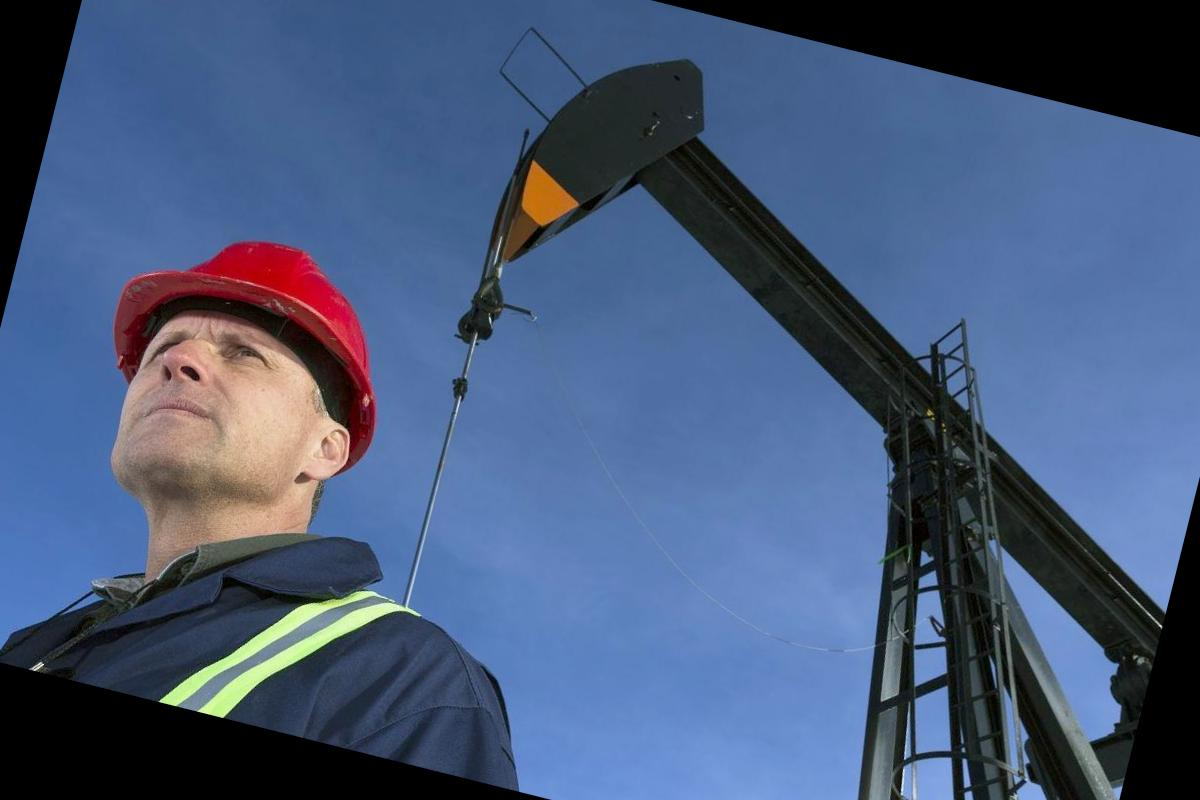helmet: (91, 208, 423, 466)
person: (0, 197, 635, 792)
